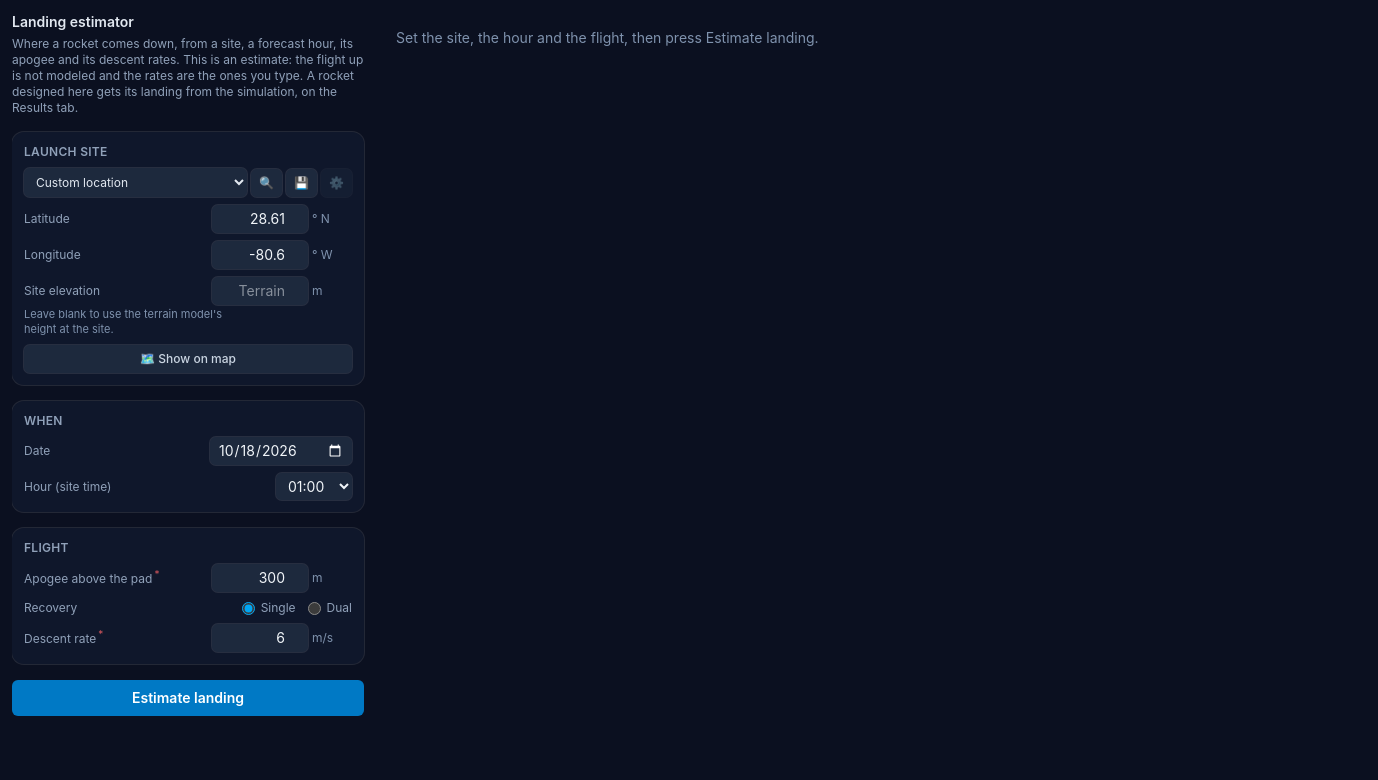
LandingEstimator › estimates, and labels the result an estimate with its credit
Step 1. Click the button "Estimate landing" → (188,698), box [12, 680, 364, 716]
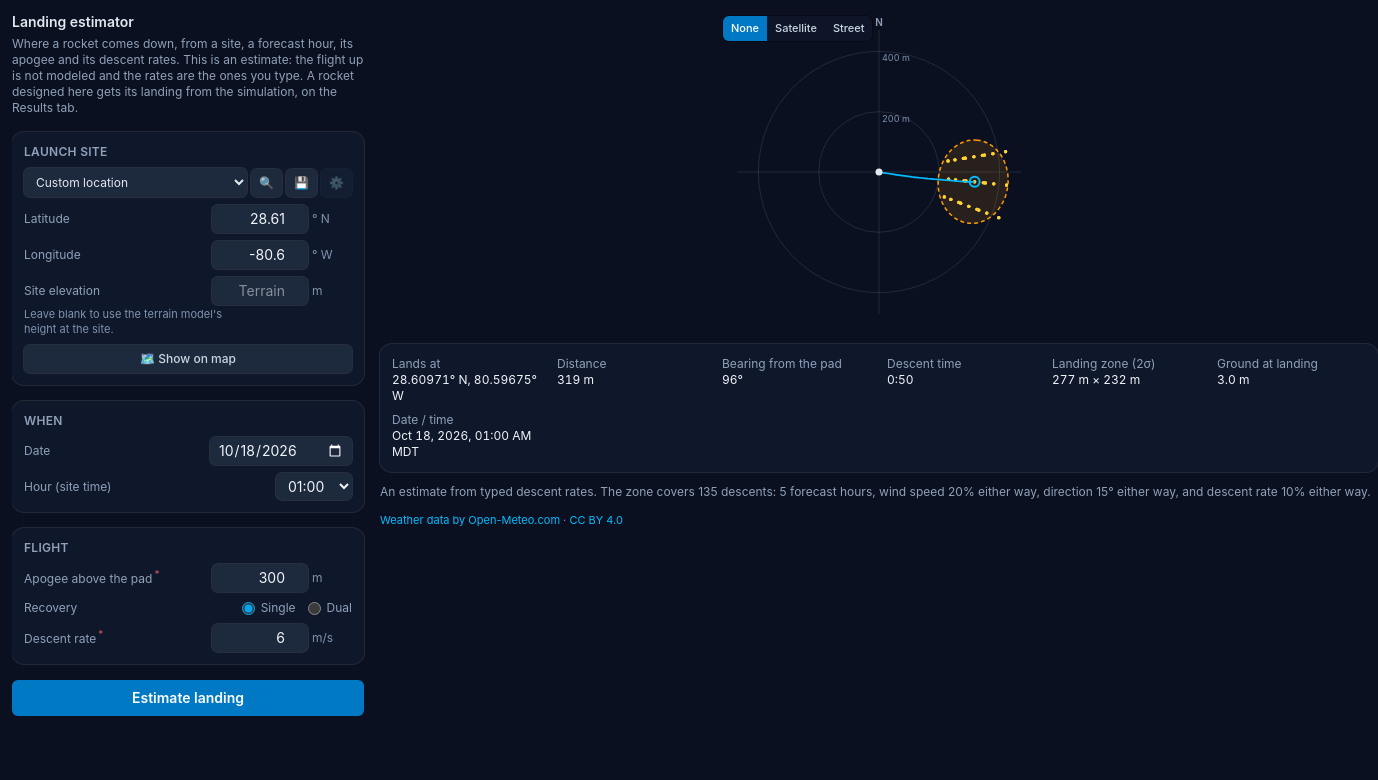
Expected: the text "Lands at" is shown, [392, 356, 440, 371]
Expected: the picture "200 m 400 m N" is shown, [719, 12, 1039, 332]
Expected: the text "An estimate from typed descent rates. The zone covers 135 descents: 5 forecast hours" is shown, [380, 484, 1371, 499]
